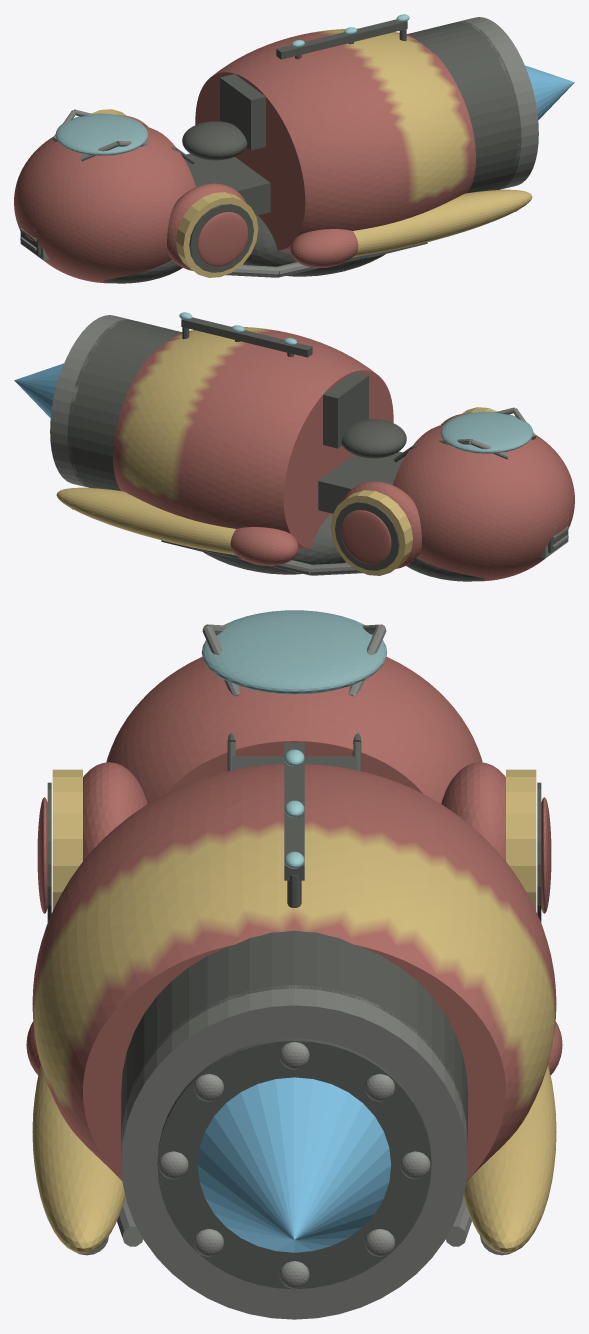
The model's file is unibomba_red_flight.glb.
The picture shows the model from 3 angles, top to bottom: view 1: azimuth 30°, elevation 25°; view 2: azimuth 150°, elevation 25°; view 3: azimuth 270°, elevation 25°; orthographic projection. The views are drawn at different scales.
Parts seen in each view (by area): view 1: hull_rear_0, nose_1, engine_rear_housing_17, side_skid_12, main_engine_rim_18, windscreen_6, cockpit_chassis_3, seat_back_5, nacelle_gold_rim_9, skid_nose_13, nacelle_hub_11, seat_4 (+8 smaller); view 2: hull_rear_0, nose_1, engine_rear_housing_17, side_skid_12, main_engine_rim_18, windscreen_6, cockpit_chassis_3, seat_back_5, nacelle_gold_rim_9, skid_nose_13, nacelle_hub_11, seat_4 (+8 smaller); view 3: hull_rear_0, main_engine_rim_18, nose_1, main_engine_flame_21, main_engine_dark_interior_19, engine_rear_housing_17, side_skid_12, windscreen_6, nose_side_nacelle_8, nacelle_gold_rim_9, engine_vane_20, nacelle_hub_11 (+7 smaller).
Boxes of the visible parts, box(x1,y1,x2,y2) form: hull_rear_0: box(195, 28, 475, 251); nose_1: box(14, 126, 195, 283); engine_rear_housing_17: box(407, 21, 521, 192); side_skid_12: box(353, 189, 532, 256); main_engine_rim_18: box(455, 17, 538, 189); windscreen_6: box(55, 113, 148, 155); cockpit_chassis_3: box(183, 153, 270, 215); seat_back_5: box(220, 74, 265, 150); nacelle_gold_rim_9: box(91, 109, 258, 277); skid_nose_13: box(290, 229, 358, 267); nacelle_hub_11: box(197, 212, 248, 266); seat_4: box(182, 121, 247, 160); hull_rear_0: box(113, 326, 393, 549); nose_1: box(393, 424, 574, 581); engine_rear_housing_17: box(67, 319, 181, 490); side_skid_12: box(56, 487, 235, 554); main_engine_rim_18: box(50, 315, 129, 487); windscreen_6: box(440, 411, 533, 453); cockpit_chassis_3: box(318, 451, 405, 513); seat_back_5: box(323, 372, 368, 448); nacelle_gold_rim_9: box(330, 407, 497, 575); skid_nose_13: box(230, 527, 298, 565); nacelle_hub_11: box(340, 510, 391, 564); seat_4: box(341, 419, 406, 458); hull_rear_0: box(32, 764, 556, 1181); main_engine_rim_18: box(121, 985, 467, 1319); nose_1: box(106, 656, 482, 803); main_engine_flame_21: box(197, 1077, 391, 1252); main_engine_dark_interior_19: box(157, 1038, 431, 1289); engine_rear_housing_17: box(121, 930, 467, 1143); side_skid_12: box(32, 1065, 556, 1253); windscreen_6: box(201, 610, 387, 694); nose_side_nacelle_8: box(83, 762, 505, 861); nacelle_gold_rim_9: box(52, 769, 536, 910); engine_vane_20: box(158, 1042, 430, 1288); nacelle_hub_11: box(37, 797, 551, 913).
Bounding box in the file's own units: 6.28 × 2.47 × 2.66.
